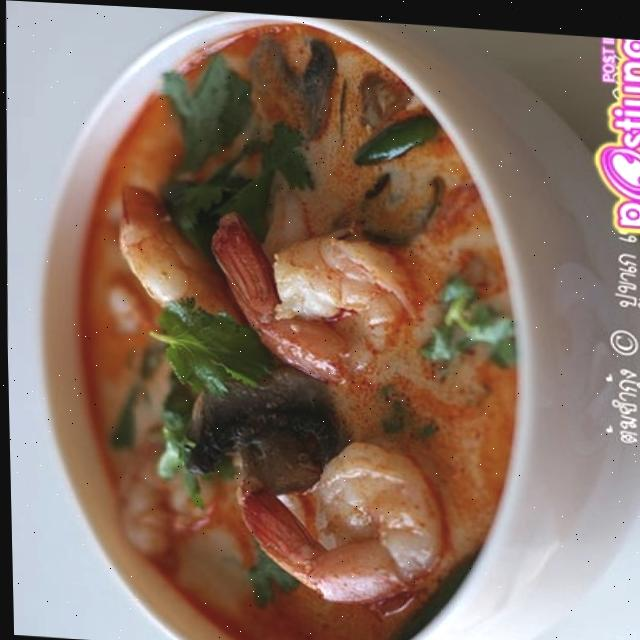汤锅炖物: (29, 10, 571, 640)
